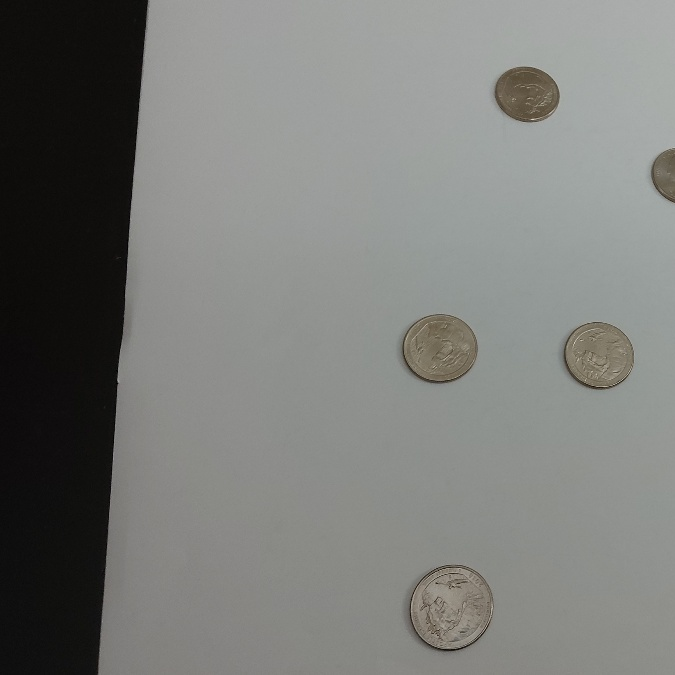coin_quarter: (401, 560, 496, 656), (396, 307, 479, 392), (560, 311, 642, 396), (492, 60, 563, 124)
